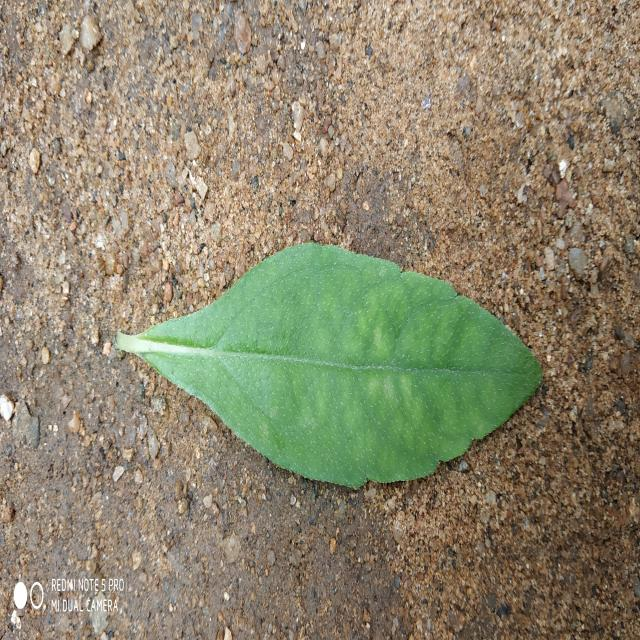bringaraja: (116, 242, 542, 488)
